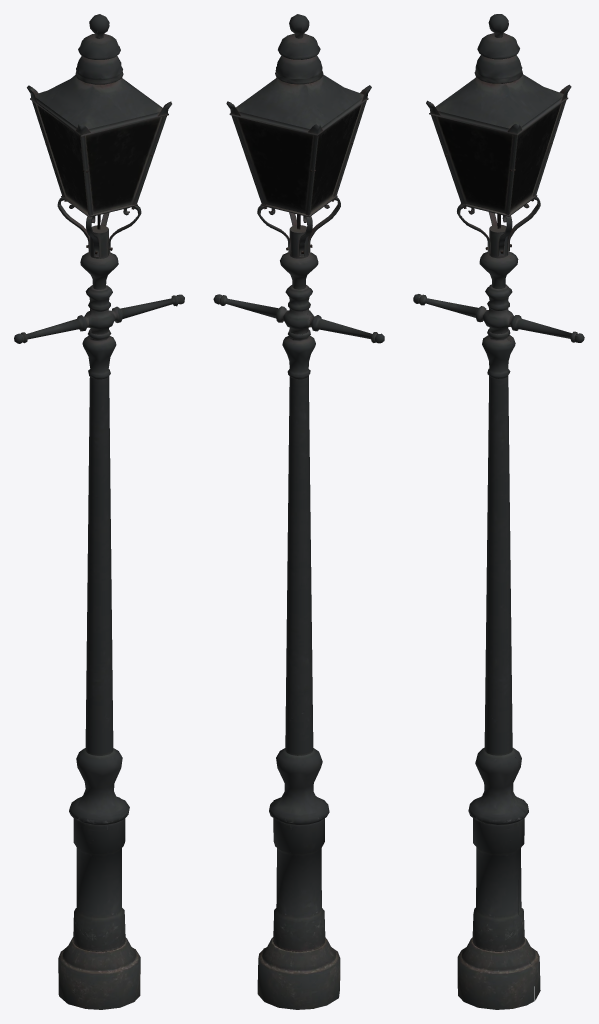
File: prop-streetlamp-7d976ab64708.glb
The picture shows the model from 3 angles, left to right: view 1: azimuth 30°, elevation 25°; view 2: azimuth 150°, elevation 25°; view 3: azimuth 330°, elevation 25°; orthographic projection.
Visible parts, largest first — view 1: ph_street_lamp_classic_post_part_0; view 2: ph_street_lamp_classic_post_part_0; view 3: ph_street_lamp_classic_post_part_0.
Boxes of the visible parts, x1,y1,x2,y2 form: ph_street_lamp_classic_post_part_0: (14, 14, 184, 1009); ph_street_lamp_classic_post_part_0: (213, 14, 384, 1009); ph_street_lamp_classic_post_part_0: (413, 14, 584, 1009).
Size of the model in its own units: 0.7047 by 3.87 by 0.3839.
Materials: 3 (3 with a texture image).
